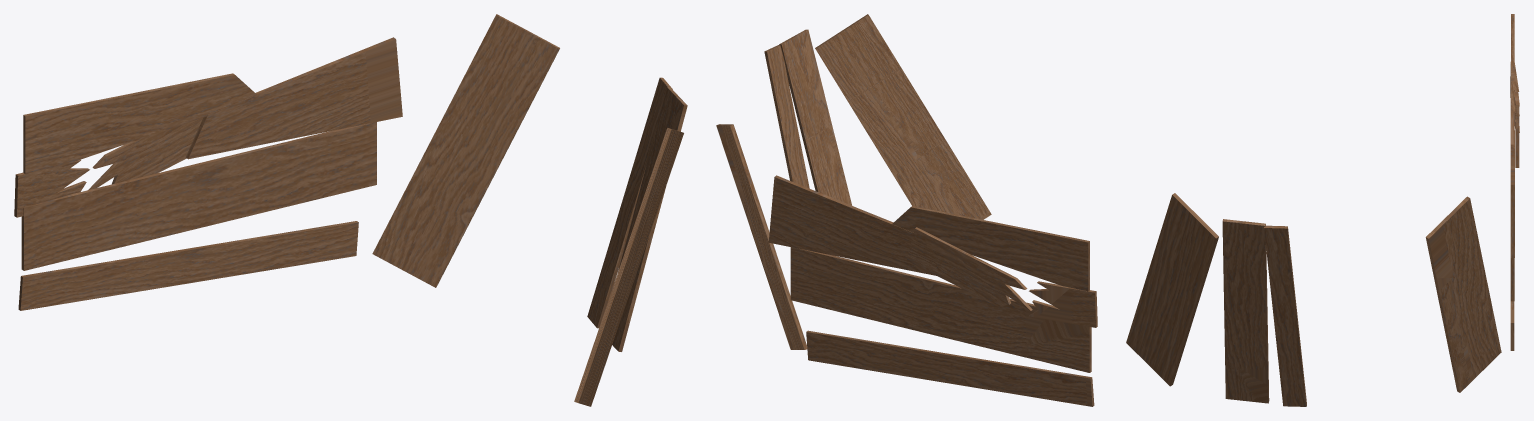
The model's file is BoatPlanks_V2.fbx.
3 views of the same model, side by side, from view 1: azimuth 30°, elevation 25°; view 2: azimuth 150°, elevation 25°; view 3: azimuth 270°, elevation 25° (orthographic). The views are drawn at different scales.
Visible parts, largest first — view 1: Boat_Planks; view 2: Boat_Planks; view 3: Boat_Planks.
Part boxes in pixels (x1,y1,x2,y2): Boat_Planks: (14,14,687,406); Boat_Planks: (716,14,1097,406); Boat_Planks: (1126,14,1519,406).
Bounding box in the file's own units: 247 × 118 × 184.
Materials: 1 (1 with a texture image).
